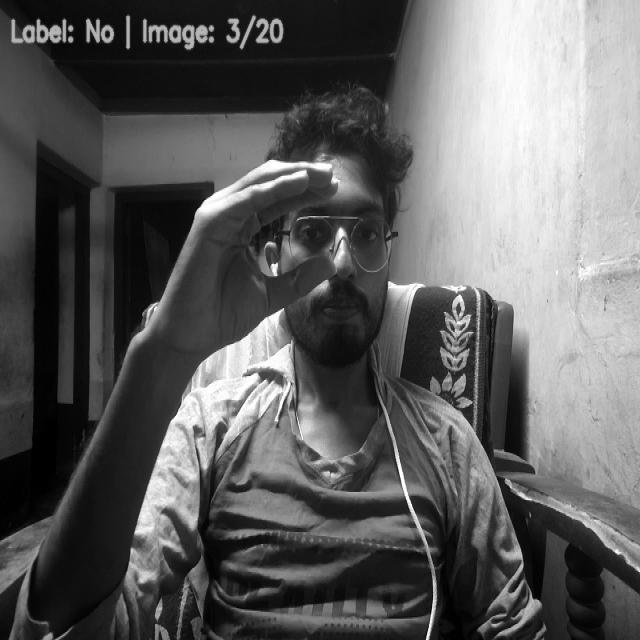No: (171, 159, 337, 364)
